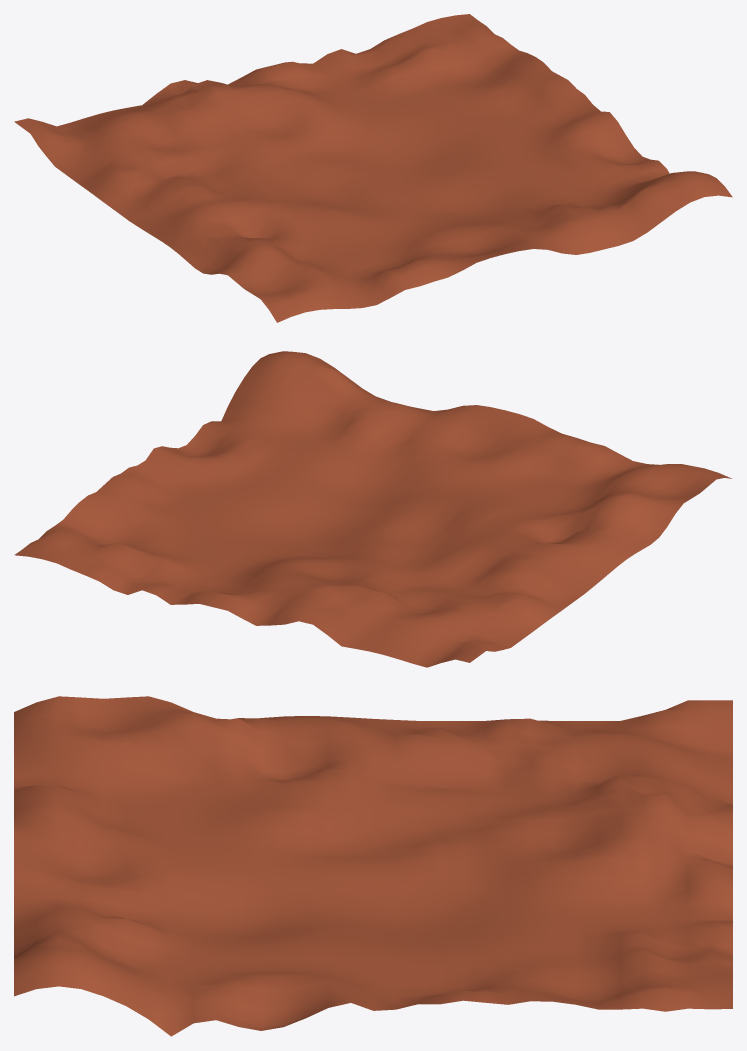
Rendered from mars background.fbx.
3 renders of one model, top to bottom at view 1: azimuth 30°, elevation 25°; view 2: azimuth 150°, elevation 25°; view 3: azimuth 270°, elevation 25°, orthographic. The views are drawn at different scales.
Parts seen in each view (by area): view 1: Plane; view 2: Plane; view 3: Plane.
Part boxes in pixels (bbox=[...]): Plane: bbox=[14, 14, 732, 322]; Plane: bbox=[14, 351, 732, 667]; Plane: bbox=[14, 696, 732, 1036].
Size of the model in its own units: 2005 by 207 by 2005.
